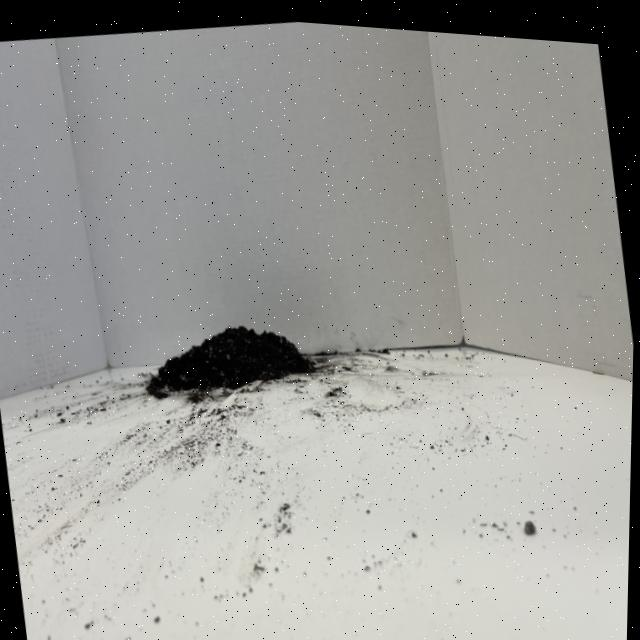soil: (136, 305, 320, 416)
